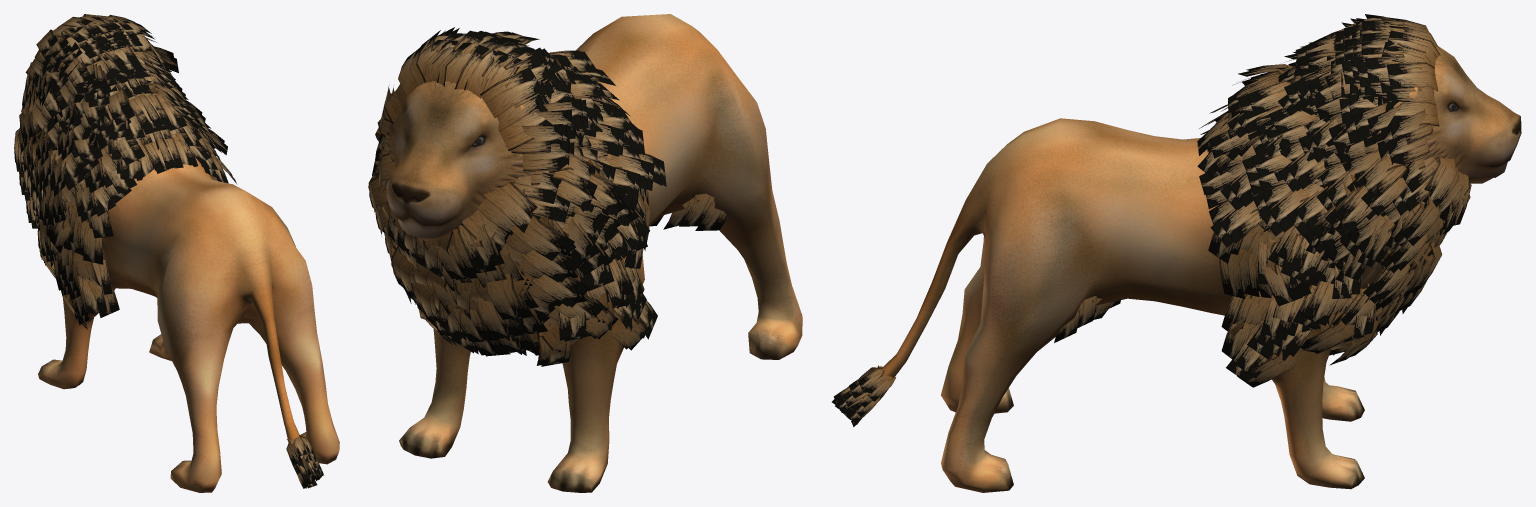
File: Leao.fbx
3 renders of one model, left to right at view 1: azimuth 30°, elevation 25°; view 2: azimuth 150°, elevation 25°; view 3: azimuth 270°, elevation 25°, orthographic. The views are drawn at different scales.
Visible parts, largest first — view 1: Object224; view 2: Object224; view 3: Object224.
Part boxes in pixels (<box>): Object224: <box>14,14,339,492</box>; Object224: <box>368,14,802,492</box>; Object224: <box>832,14,1521,492</box>.
Bounding box in the file's own units: 1.33 × 2.38 × 3.57.
Materials: 1 (1 with a texture image).
